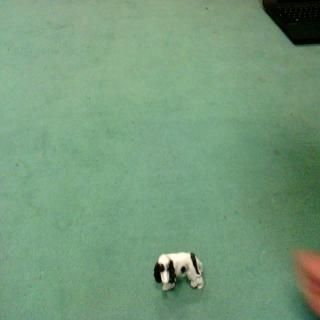dog: (152, 248, 207, 301)
